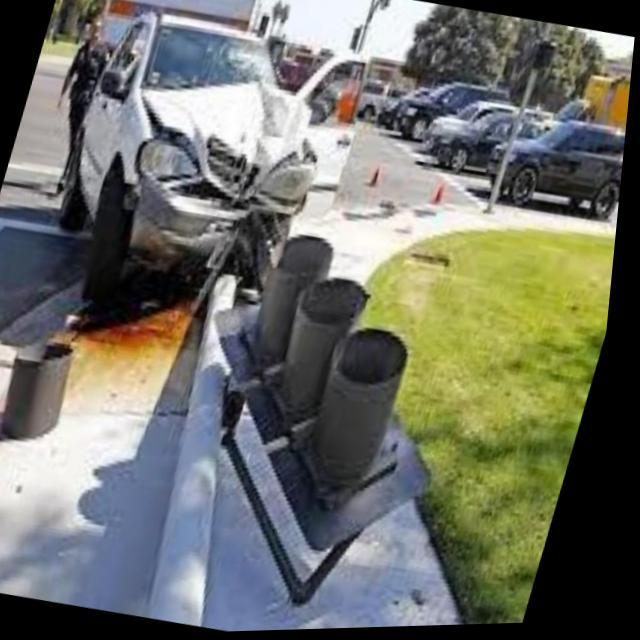crash: (134, 83, 324, 306)
